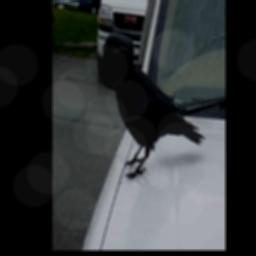Crow: (111, 44, 204, 180)
